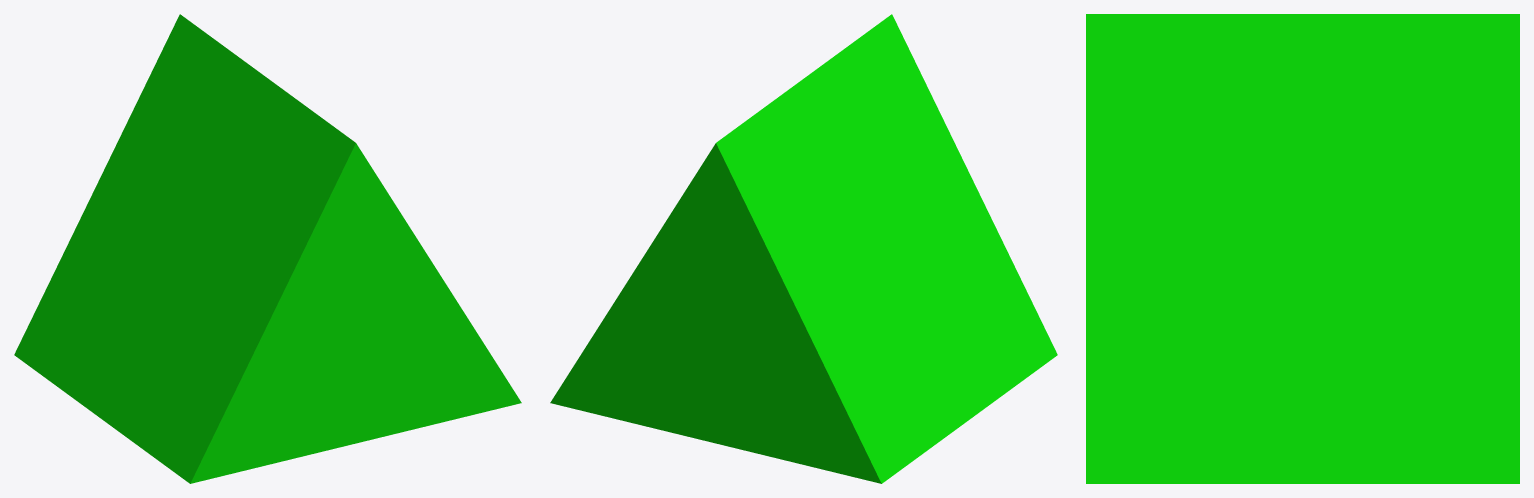
The model's file is ReturnButtonCollision.fbx.
The picture shows the model from 3 angles, left to right: view 1: azimuth 30°, elevation 25°; view 2: azimuth 150°, elevation 25°; view 3: azimuth 270°, elevation 25°; orthographic projection. The views are drawn at different scales.
Parts seen in each view (by area): view 1: Circle; view 2: Circle; view 3: Circle.
Part boxes in pixels (box(x1,y1,x2,y2)): Circle: box(14, 14, 521, 483); Circle: box(550, 14, 1057, 483); Circle: box(1086, 14, 1519, 483).
Size of the model in its own units: 1.73 by 1.5 by 1.59.
